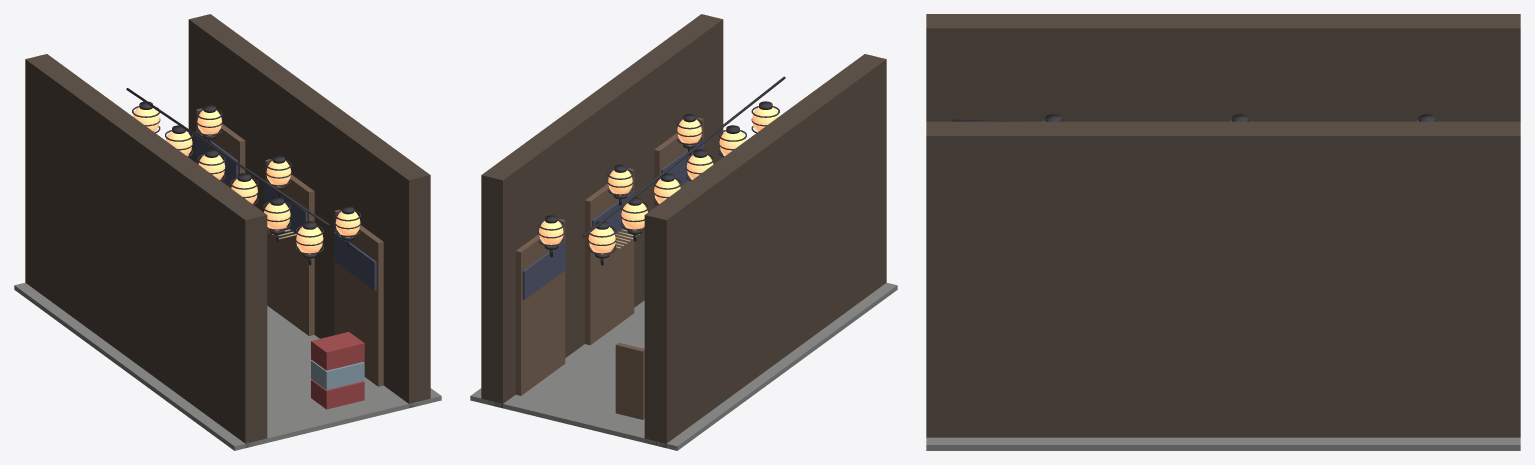
Rendered from prop_akachochin_yokocho.glb.
The picture shows the model from 3 angles, left to right: view 1: azimuth 30°, elevation 25°; view 2: azimuth 150°, elevation 25°; view 3: azimuth 270°, elevation 25°; orthographic projection. The views are drawn at different scales.
Parts seen in each view (by area): view 1: akachochin_yokocho; view 2: akachochin_yokocho; view 3: akachochin_yokocho.
Part boxes in pixels (left/top/right/bottom): akachochin_yokocho: left=14, top=14, right=441, bottom=450; akachochin_yokocho: left=470, top=14, right=897, bottom=450; akachochin_yokocho: left=926, top=14, right=1520, bottom=450.
Bounding box in the file's own units: 3.8 × 4 × 7.
